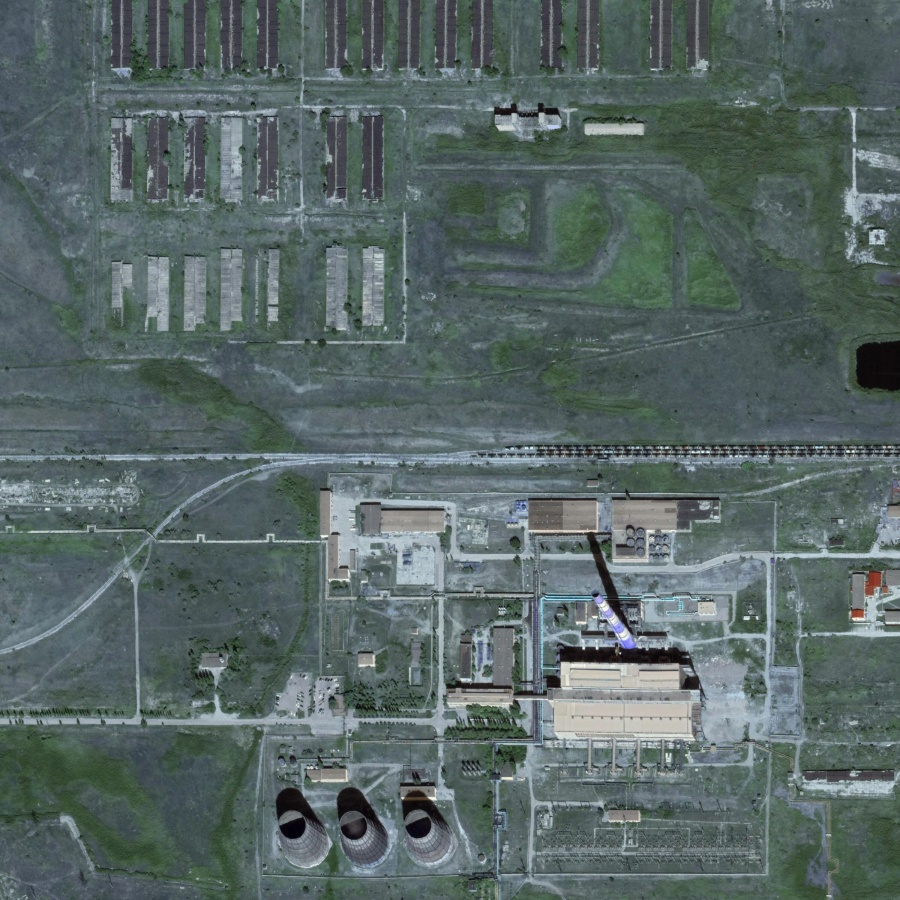PowerPlant: (249, 470, 730, 899)
